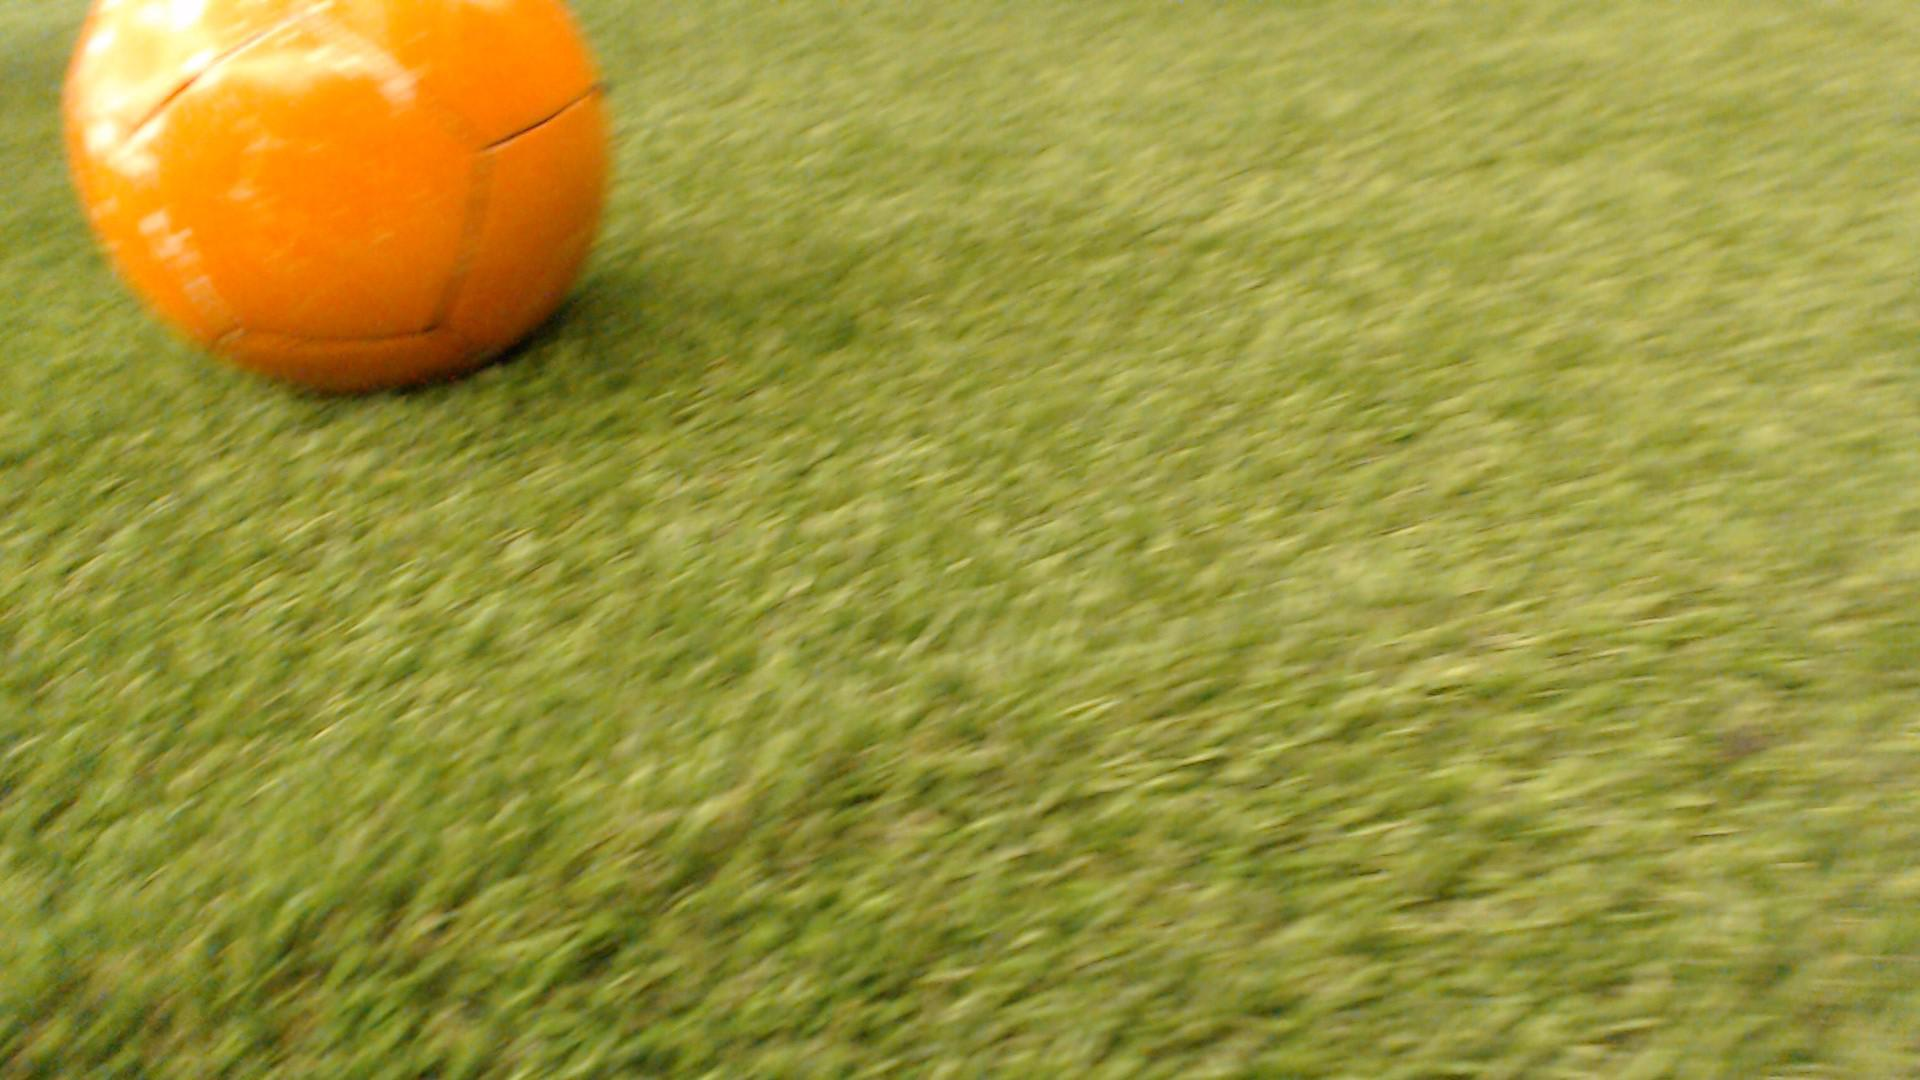bola: (41, 0, 634, 404)
